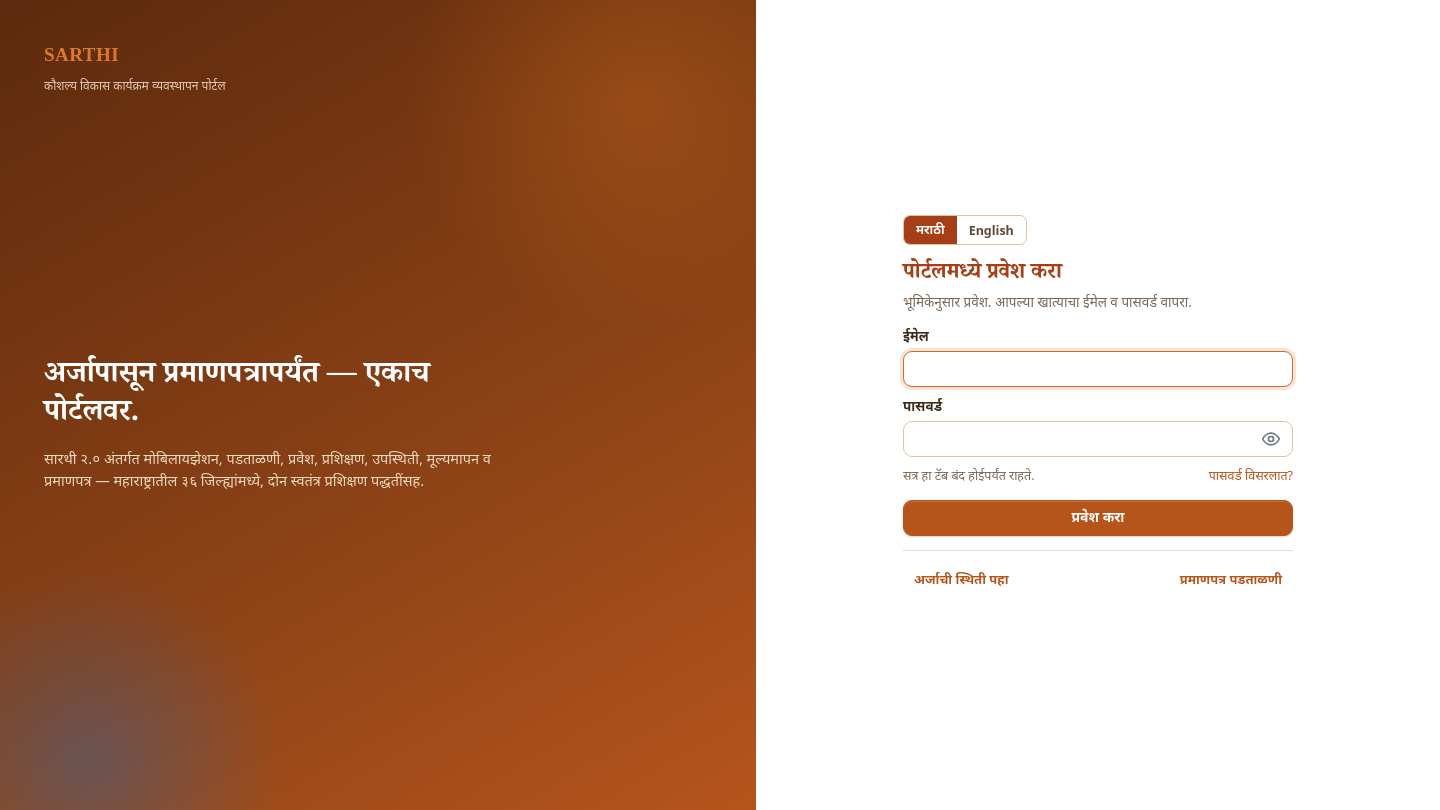
Test case: <LoginPage> landing after sign-in › takes a Website Admin to the CMS, not the Dashboard
The width and height of the screenshot is (1440, 810).
Type "meera@example.org" into the field with id "lg-user". click: [1098, 369]
box: [903, 351, 1293, 387]
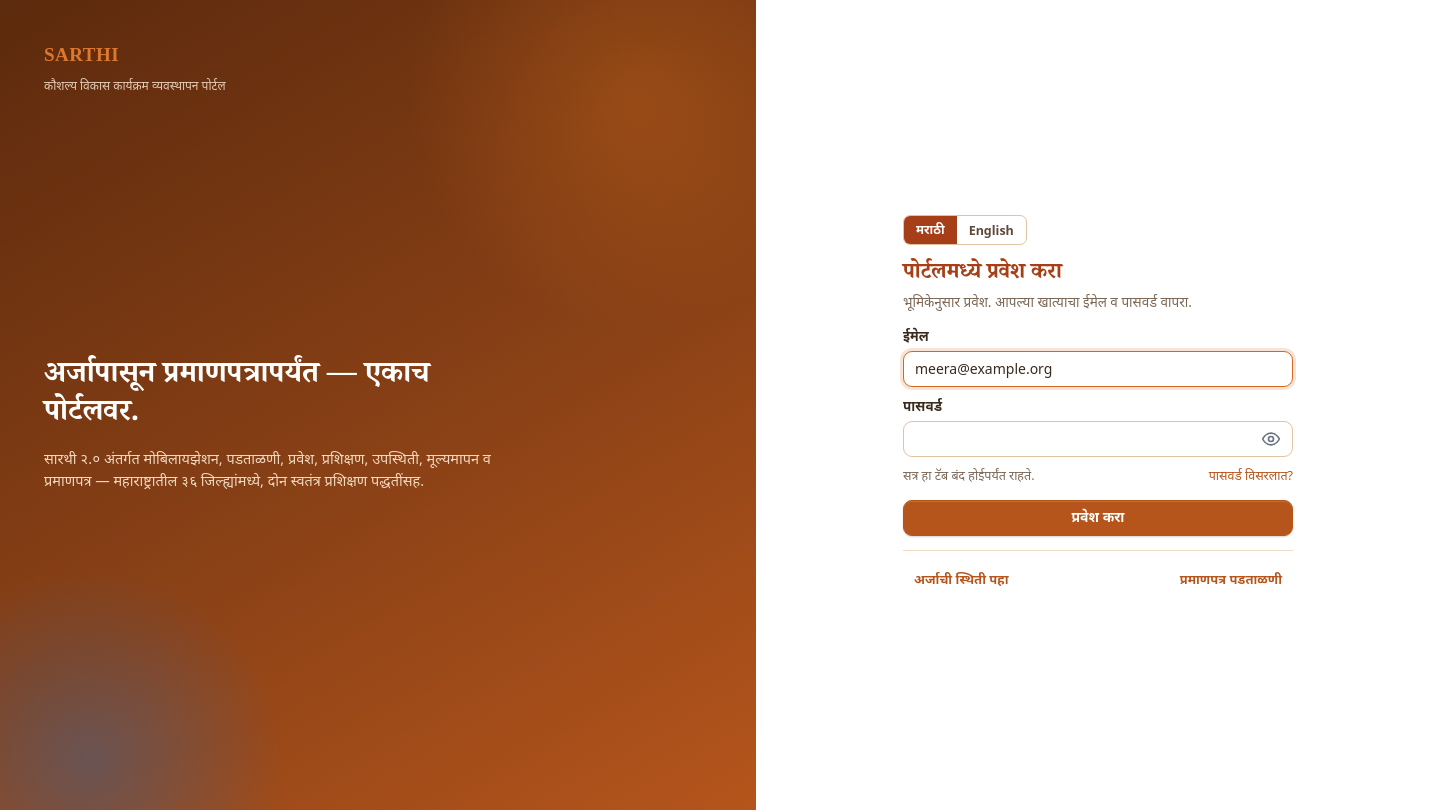
Type "Secret-Password-1" into the password field with id "lg-pass". click: [1098, 439]
box: [903, 421, 1293, 457]
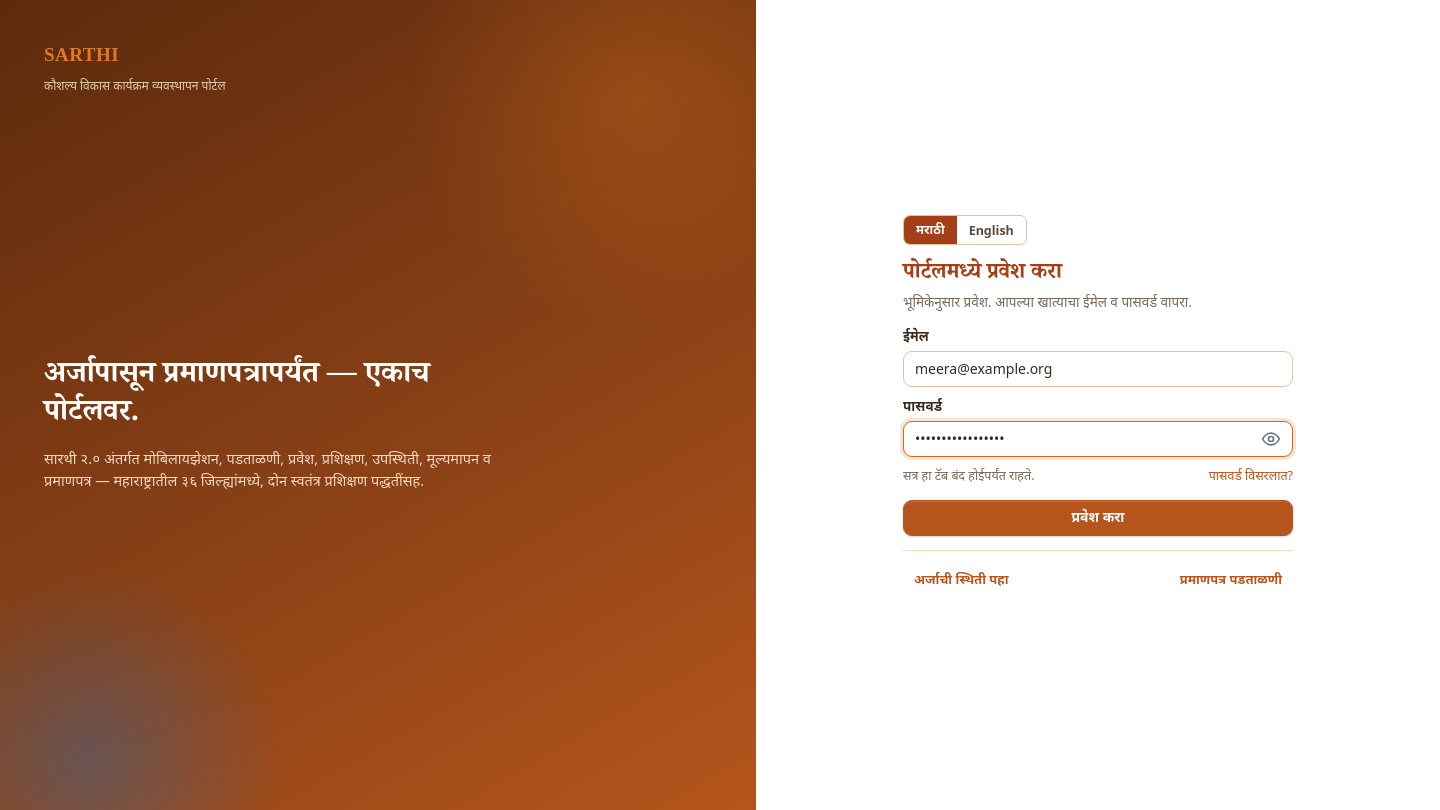
Click the submit button. click: [1098, 518]
box: [903, 500, 1293, 536]
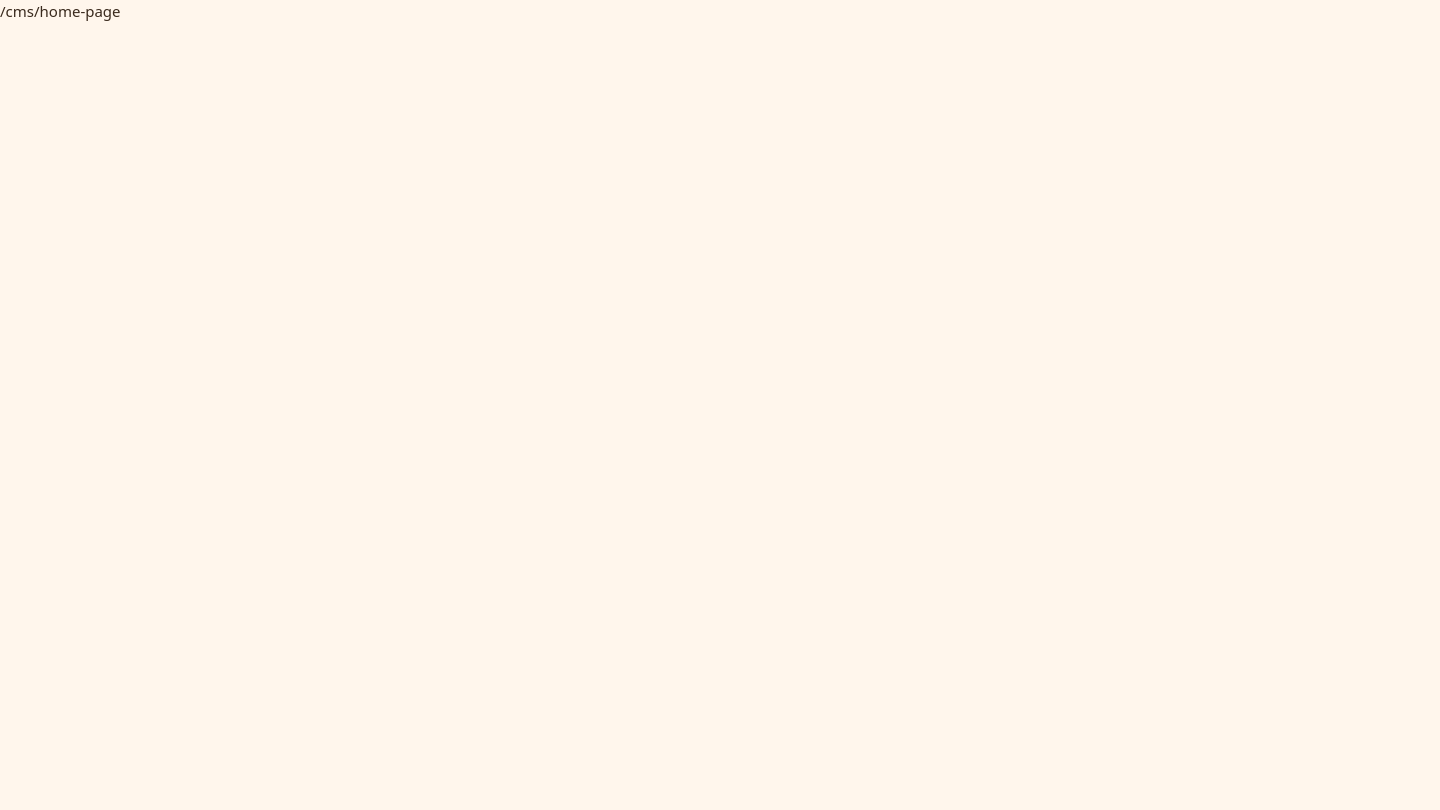
Now the text with test id "location" reads "/cms/home-page", box [0, 1, 121, 21]
